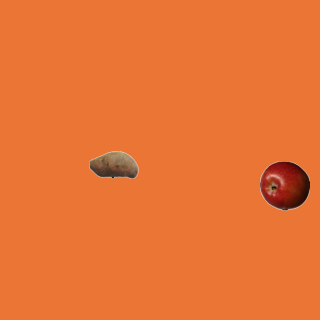Apple Braeburn: (259, 160, 309, 210)
Potato Sweet: (88, 139, 138, 189)
